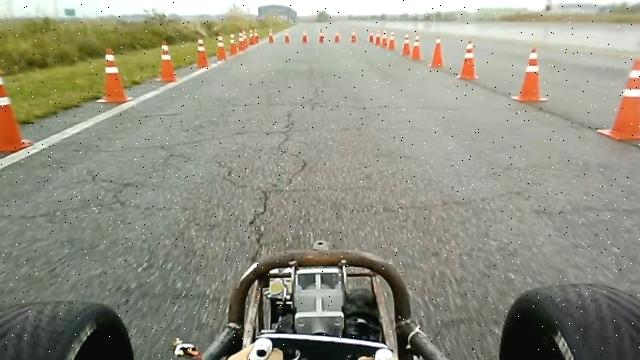red cone: (596, 58, 640, 141), (0, 63, 33, 154), (95, 47, 133, 104), (511, 47, 548, 103), (154, 40, 178, 82), (458, 40, 480, 80), (428, 35, 444, 68), (193, 38, 210, 68), (216, 34, 227, 62)
